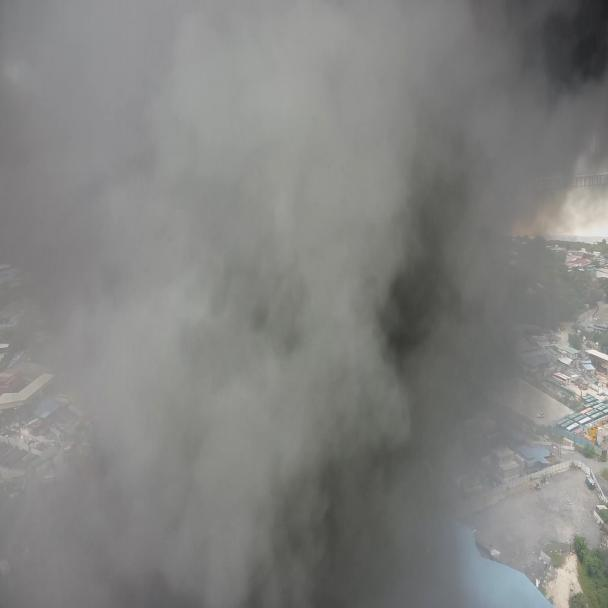smoke: (0, 4, 607, 607)
